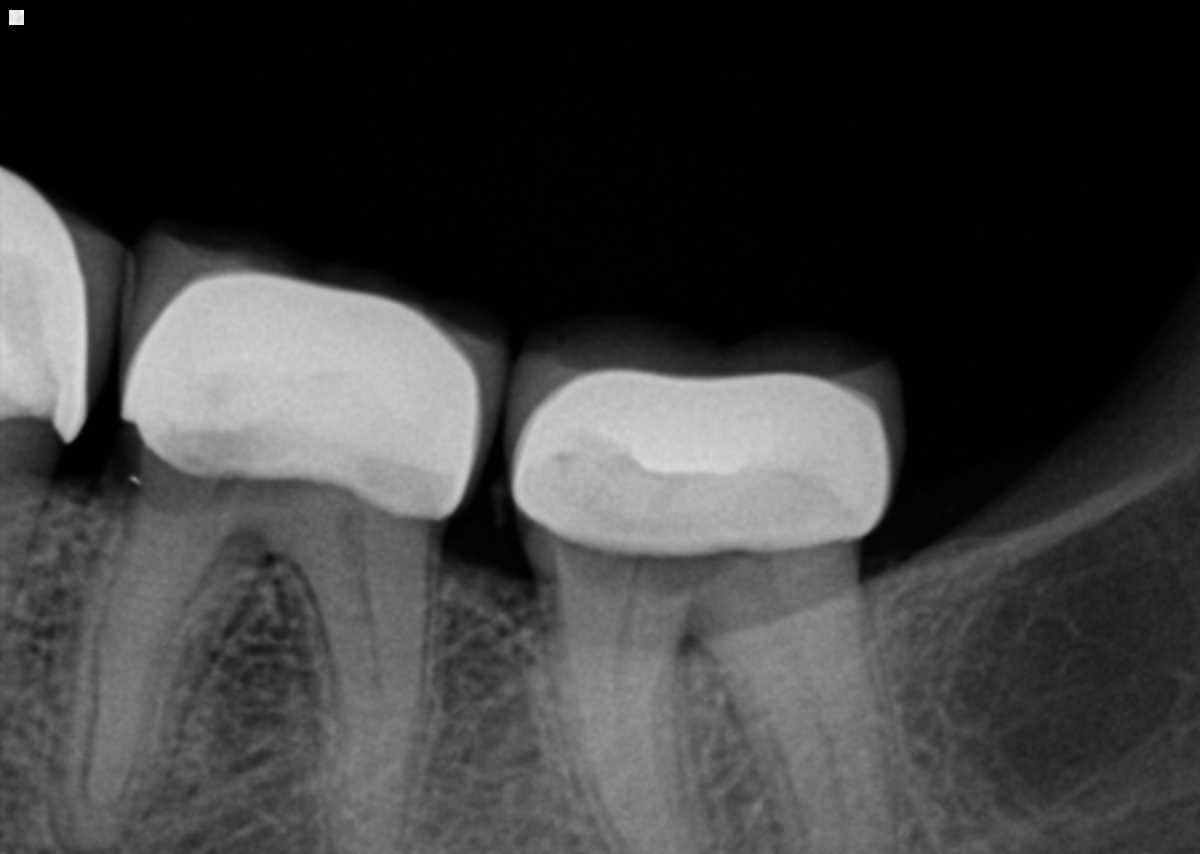Distal Canal: (762, 617, 848, 837), (353, 572, 385, 754)
Distal Root: (717, 598, 900, 854)
Mesial Canal: (614, 636, 632, 746)
Mesial Root: (53, 515, 261, 850), (297, 567, 433, 854), (551, 629, 714, 854)
decay: (553, 540, 774, 598)
